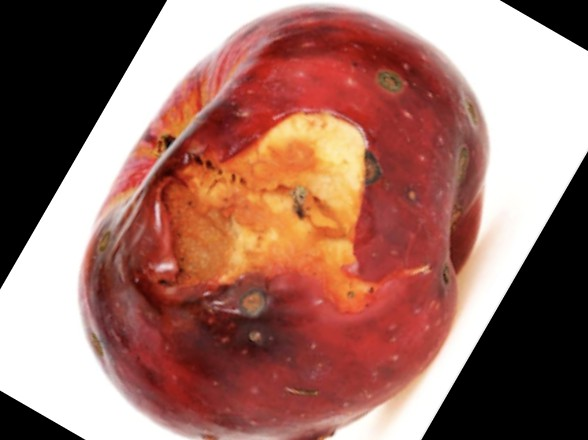rotten_apple: (77, 4, 490, 440)
